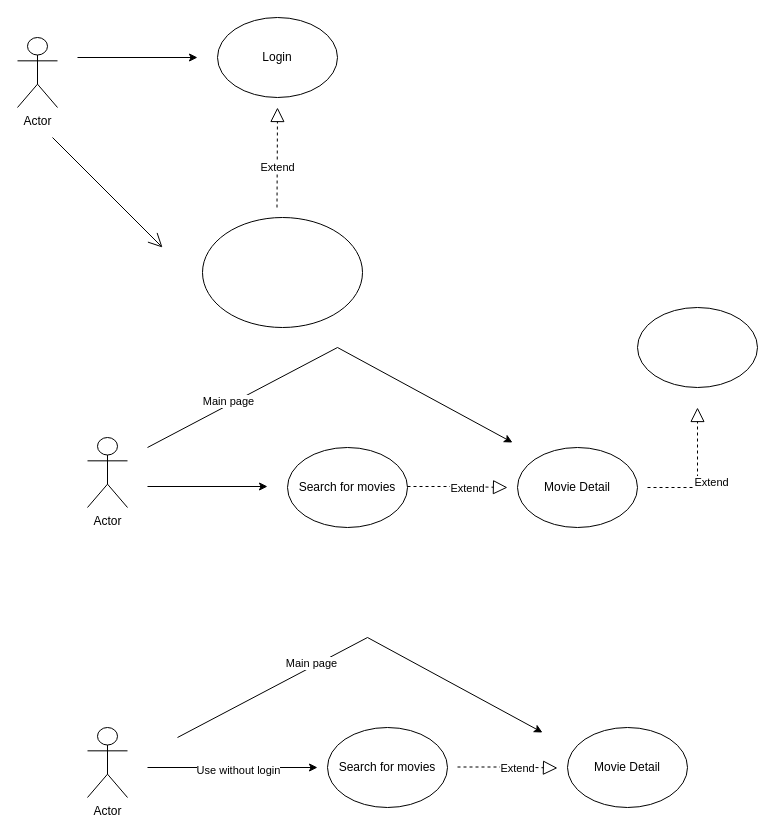
Some shapes in this 775 by 836 pixel diagram are drawn without their labels. Here are the shapes that lost their labels. From the top down, the box of each, then its label:
(202, 216, 362, 328): Register on the movies website
(636, 306, 758, 388): Add to favorites
